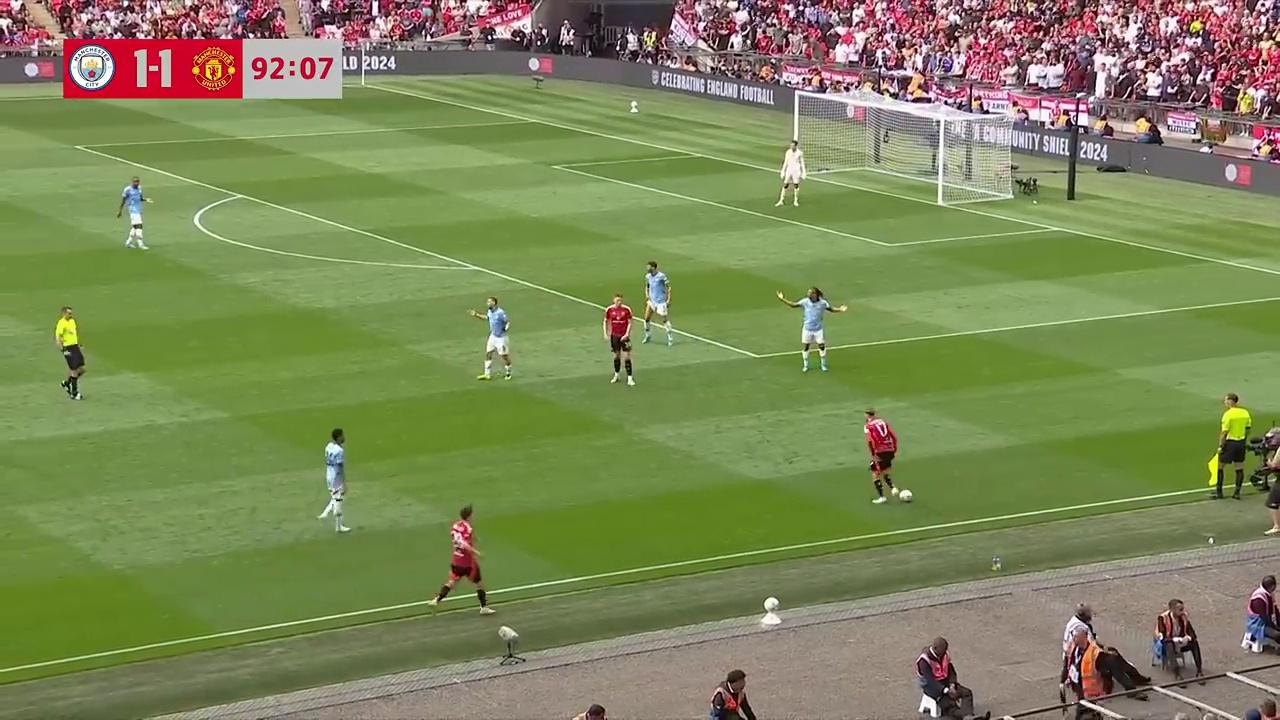ball: (900, 486, 917, 506)
player: (433, 505, 488, 605), (790, 285, 845, 372), (864, 407, 906, 504), (470, 295, 512, 380), (317, 428, 350, 532), (603, 295, 636, 387), (642, 260, 673, 345), (117, 176, 152, 250), (775, 145, 802, 207)
referee: (1206, 393, 1253, 497), (55, 305, 86, 401)
